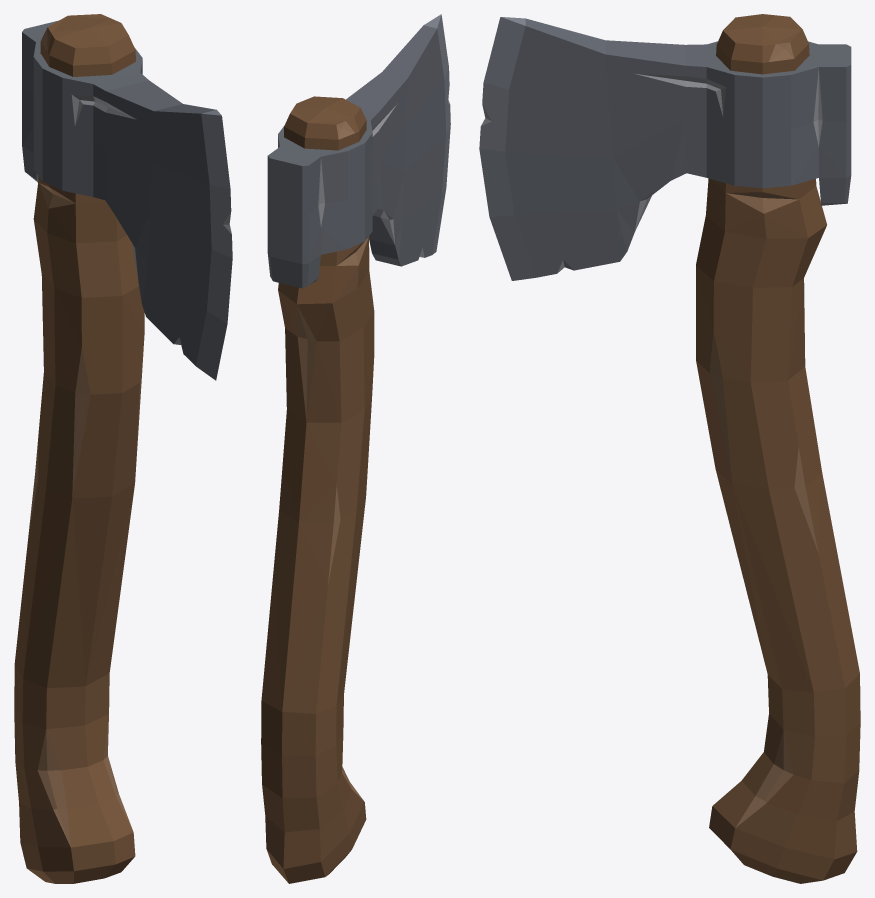
The model's file is mesh_hatchet.fbx.
3 renders of one model, left to right at view 1: azimuth 30°, elevation 25°; view 2: azimuth 150°, elevation 25°; view 3: azimuth 270°, elevation 25°, orthographic. The views are drawn at different scales.
Parts seen in each view (by area): view 1: mesh_hatchet; view 2: mesh_hatchet; view 3: mesh_hatchet.
Boxes of the visible parts, x1,y1,x2,y2 form: mesh_hatchet: [14, 14, 232, 883]; mesh_hatchet: [261, 14, 450, 883]; mesh_hatchet: [479, 14, 860, 883].
Size of the model in its own units: 0.0691 by 0.6346 by 0.255.
